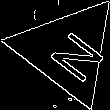N_NW: (33, 18, 101, 81)
